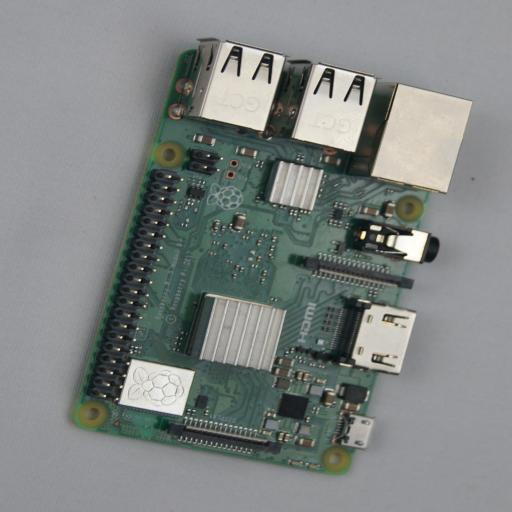Raspberry Pi 3 B-: (68, 38, 474, 475)
